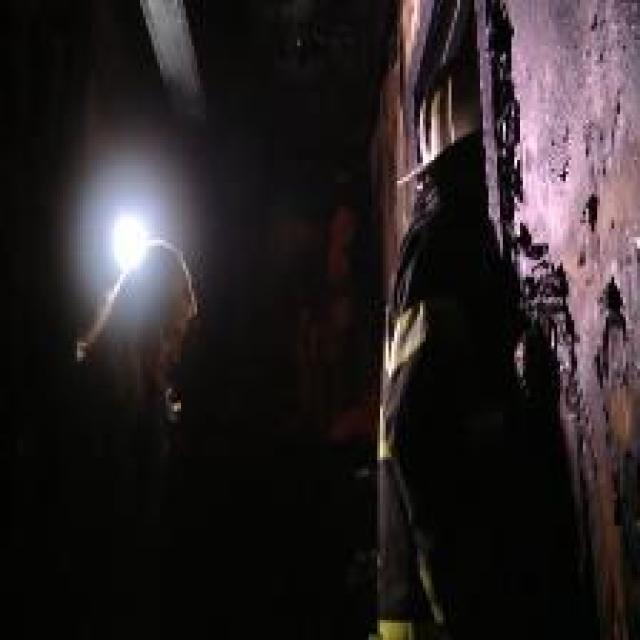other: (87, 191, 155, 284)
